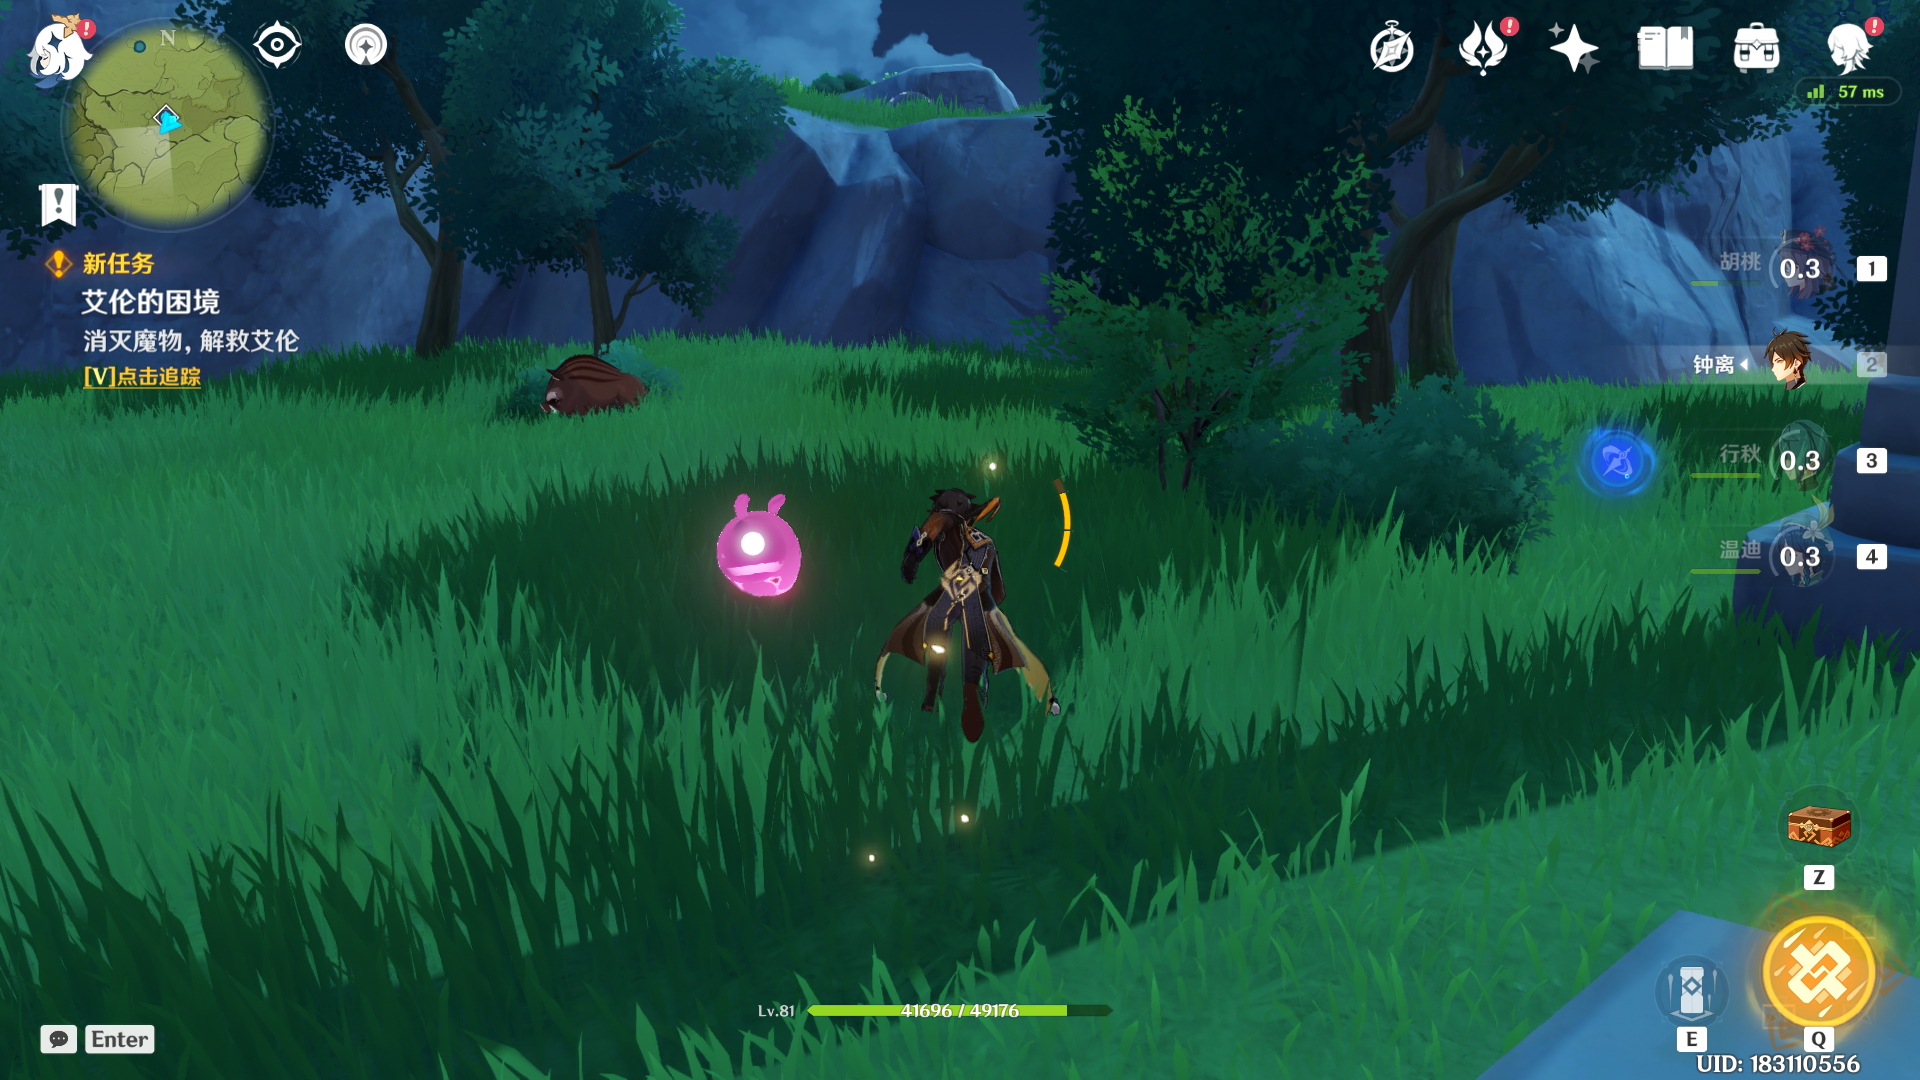character: (858, 469, 1084, 827)
